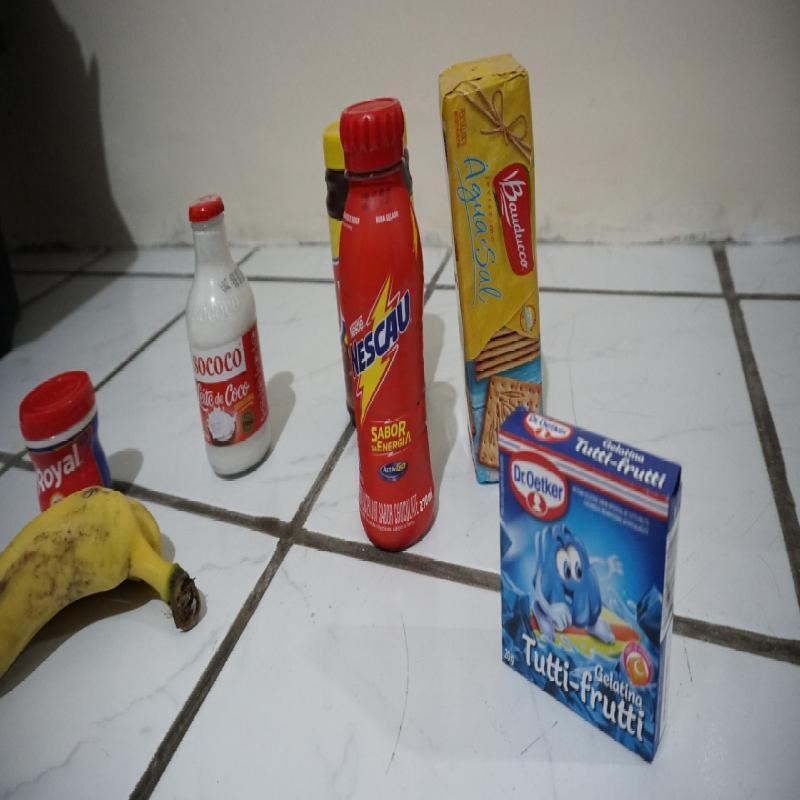Banana: (3, 494, 199, 680)
Chocolate Milk: (342, 112, 440, 546)
Chocolate Powder: (316, 124, 348, 275)
Coconut Milk: (183, 198, 272, 467)
Cracker: (438, 49, 550, 410)
Gelatine: (499, 409, 678, 718)
Yeast: (23, 372, 106, 491)
